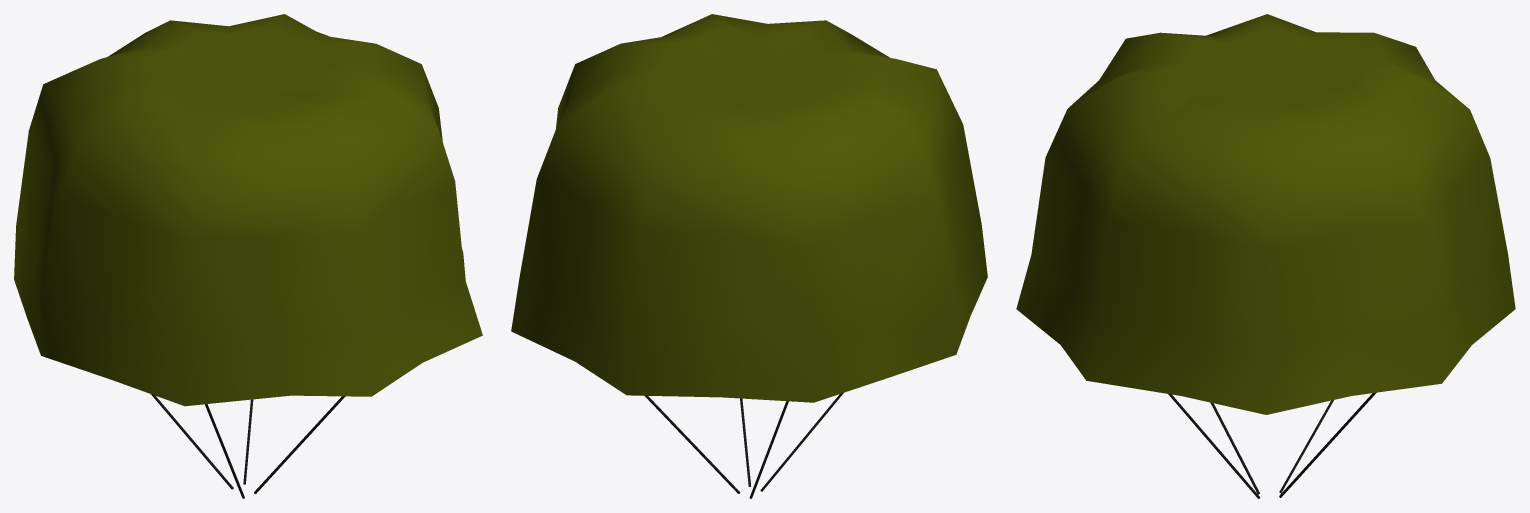
Rendered from Parachute_LP.fbx.
3 renders of one model, left to right at view 1: azimuth 30°, elevation 25°; view 2: azimuth 150°, elevation 25°; view 3: azimuth 270°, elevation 25°, orthographic.
Visible parts, largest first — view 1: Parachute; view 2: Parachute; view 3: Parachute.
Part boxes in pixels (x1,y1,x2,y2): Parachute: (14, 14, 482, 498); Parachute: (511, 14, 987, 498); Parachute: (1016, 14, 1515, 498).
Size of the model in its own units: 553 by 536 by 564.
